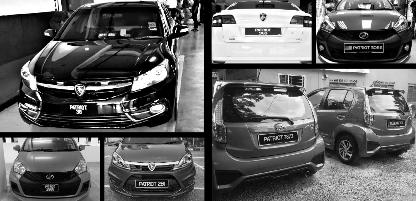license plate: (252, 130, 306, 147), (340, 40, 390, 56), (58, 100, 102, 117), (242, 25, 286, 39), (134, 178, 170, 189), (385, 115, 409, 130), (39, 182, 61, 193)
